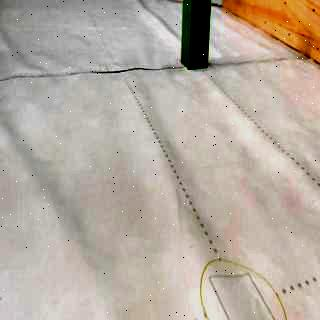greenbox: (181, 0, 211, 71)
